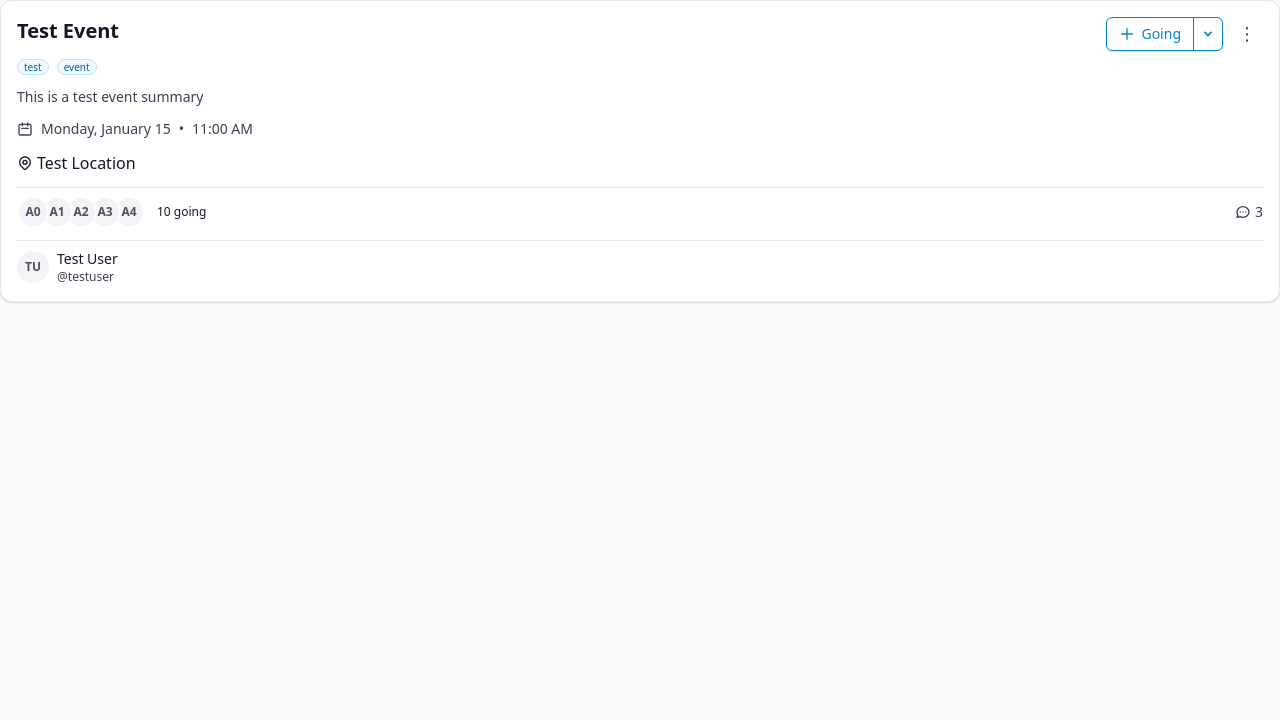
EventCard Component › Interactions and Options › opens report modal when clicking report
Click the text "⋮": (1247, 32) x1=1238 y1=20 x2=1256 y2=44
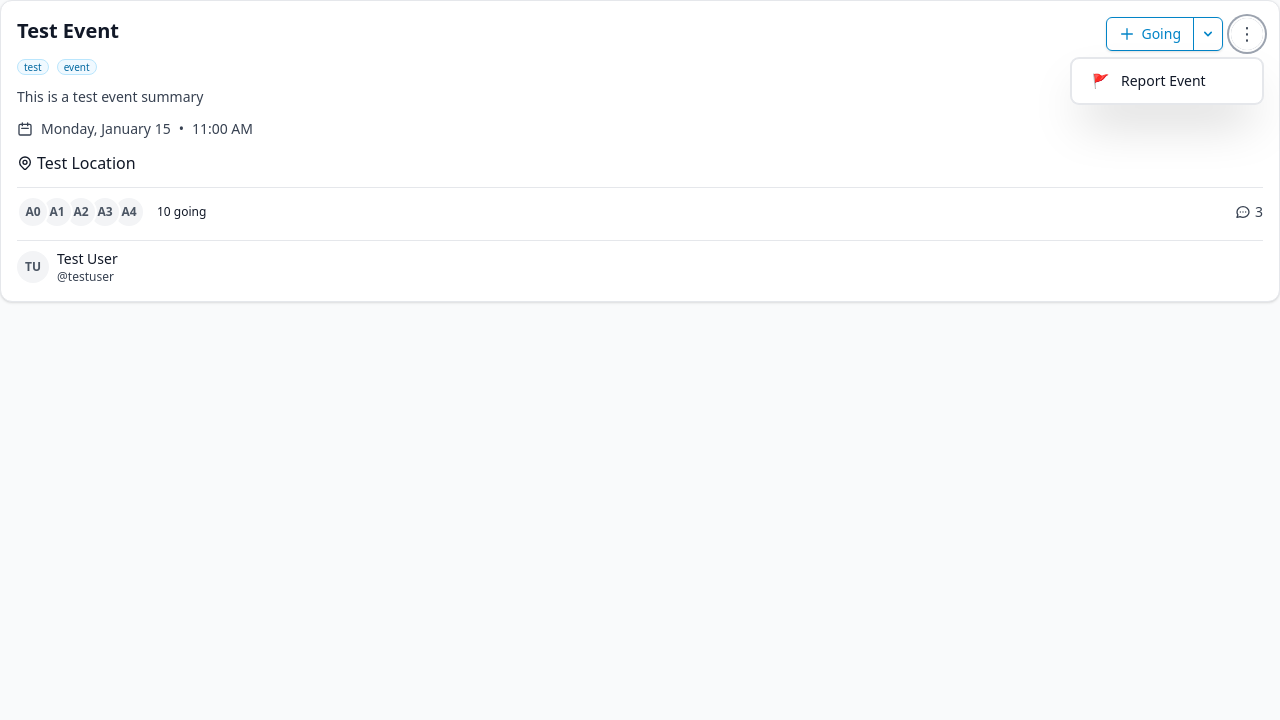
Click the button "🚩 Report Event": (1167, 81) x1=1076 y1=63 x2=1258 y2=99
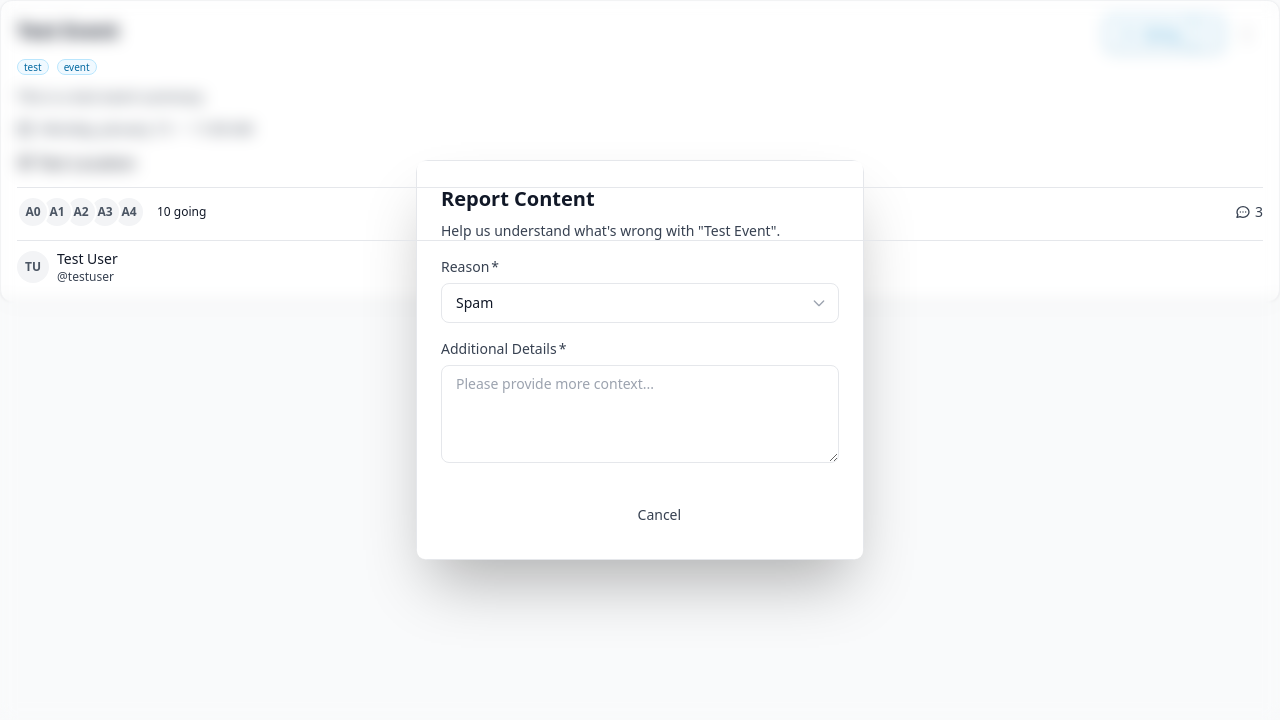
Expected: the heading "Report Content" is shown, x1=441 y1=185 x2=595 y2=212
Expected: the text "Help us understand what's wrong with \"Test Event\"." is shown, x1=441 y1=221 x2=839 y2=241
